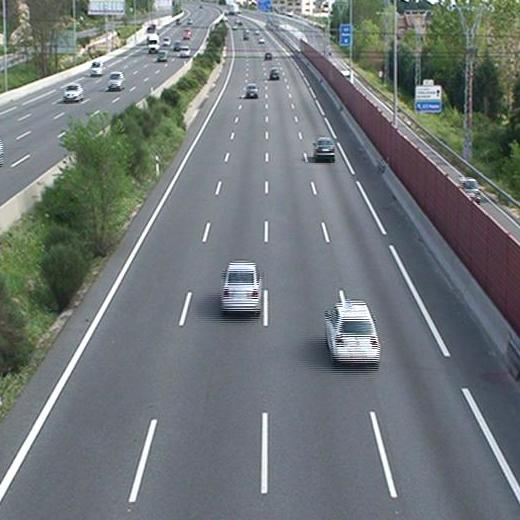car: (322, 300, 383, 365), (218, 261, 263, 312), (311, 137, 335, 159), (244, 83, 260, 99), (267, 67, 282, 79)
